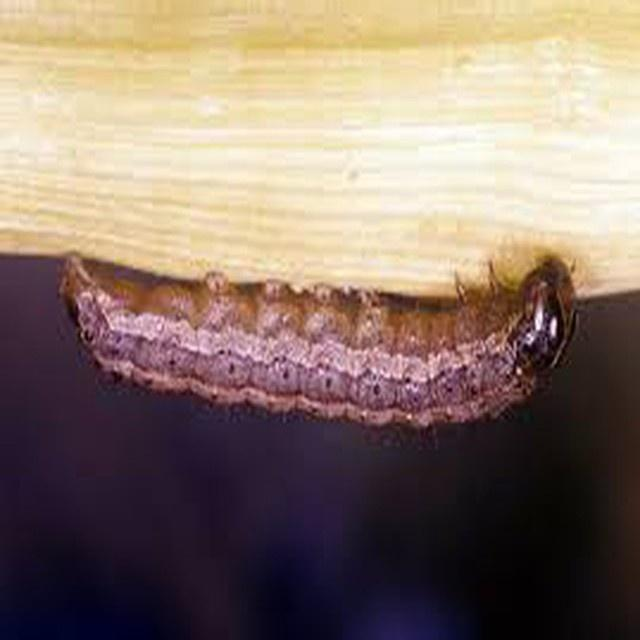gusano_cogollero: (67, 248, 580, 422)
